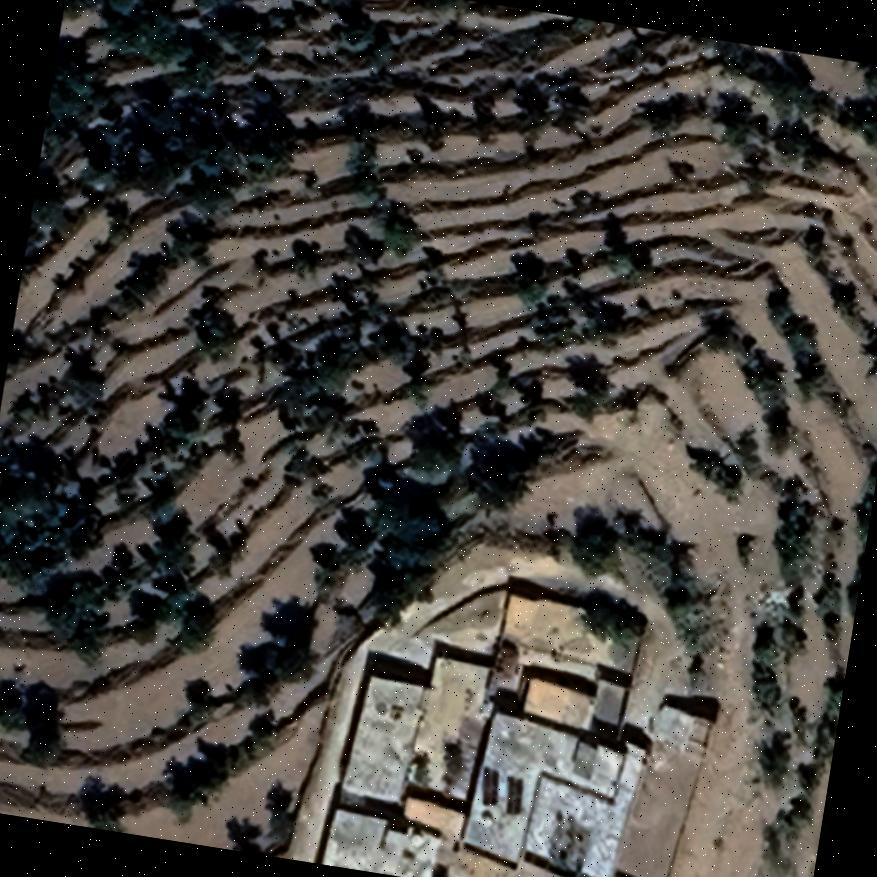Solarpanel: (473, 762, 505, 810), (498, 770, 528, 818)
